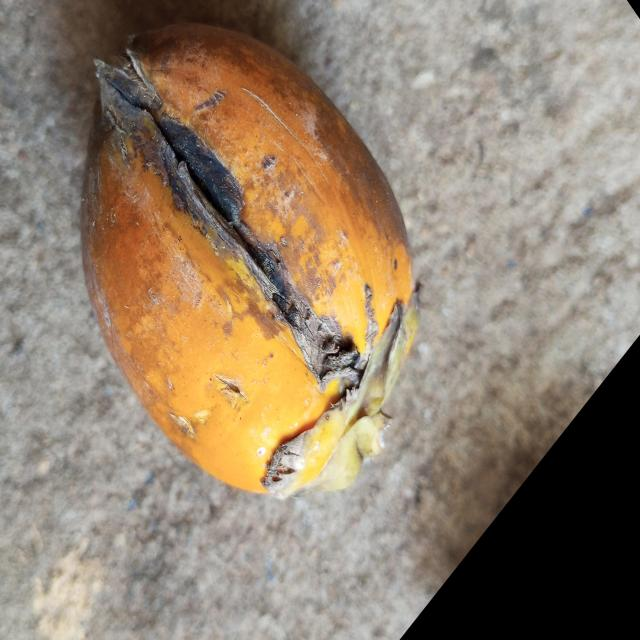damaged: (82, 24, 417, 496)
